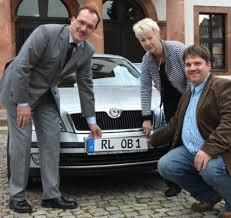license-plates: (88, 137, 149, 155)
